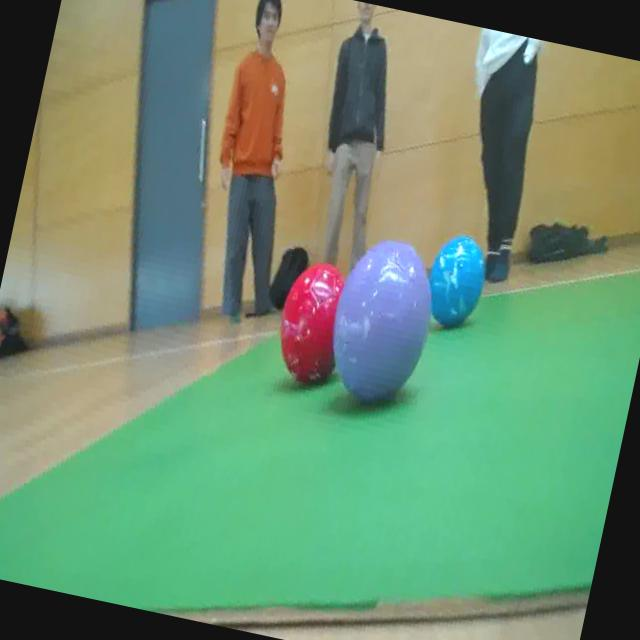blue_ball: (414, 225, 500, 332)
purple_ball: (312, 224, 451, 425)
red_ball: (274, 246, 352, 404)
